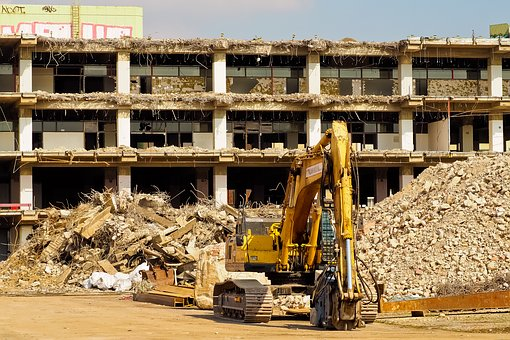excavator: (211, 118, 379, 332)
